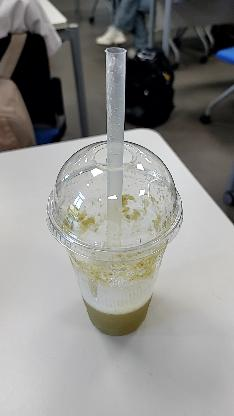Plastic Cup: (44, 137, 184, 339), (43, 138, 190, 264)
